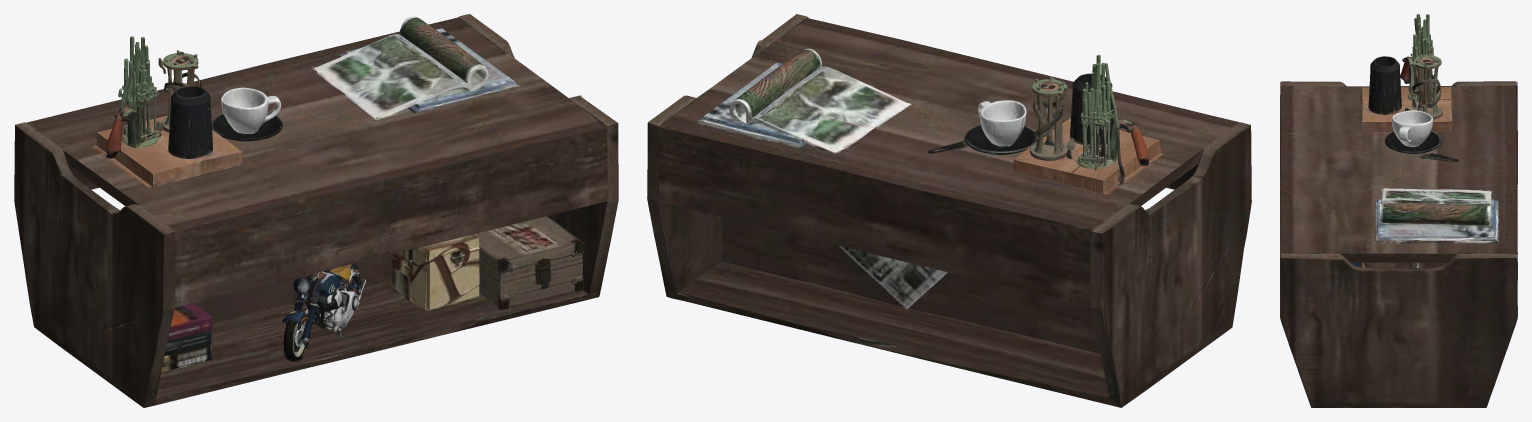
Rendered from homedepot-com-p-furniture-of-america-anthem-41-in-reclaimed--056aa9.glb.
3 renders of one model, left to right at view 1: azimuth 30°, elevation 25°; view 2: azimuth 150°, elevation 25°; view 3: azimuth 270°, elevation 25°, orthographic. The views are drawn at different scales.
Visible parts, largest first — view 1: Mesh_0; view 2: Mesh_0; view 3: Mesh_0.
Boxes of the visible parts, box(x1,y1,x2,y2) form: Mesh_0: box(14, 14, 618, 407); Mesh_0: box(647, 14, 1251, 407); Mesh_0: box(1280, 14, 1517, 407).
Bounding box in the file's own units: 1.9 × 1.21 × 1.08.
Materials: 1 (1 with a texture image).
